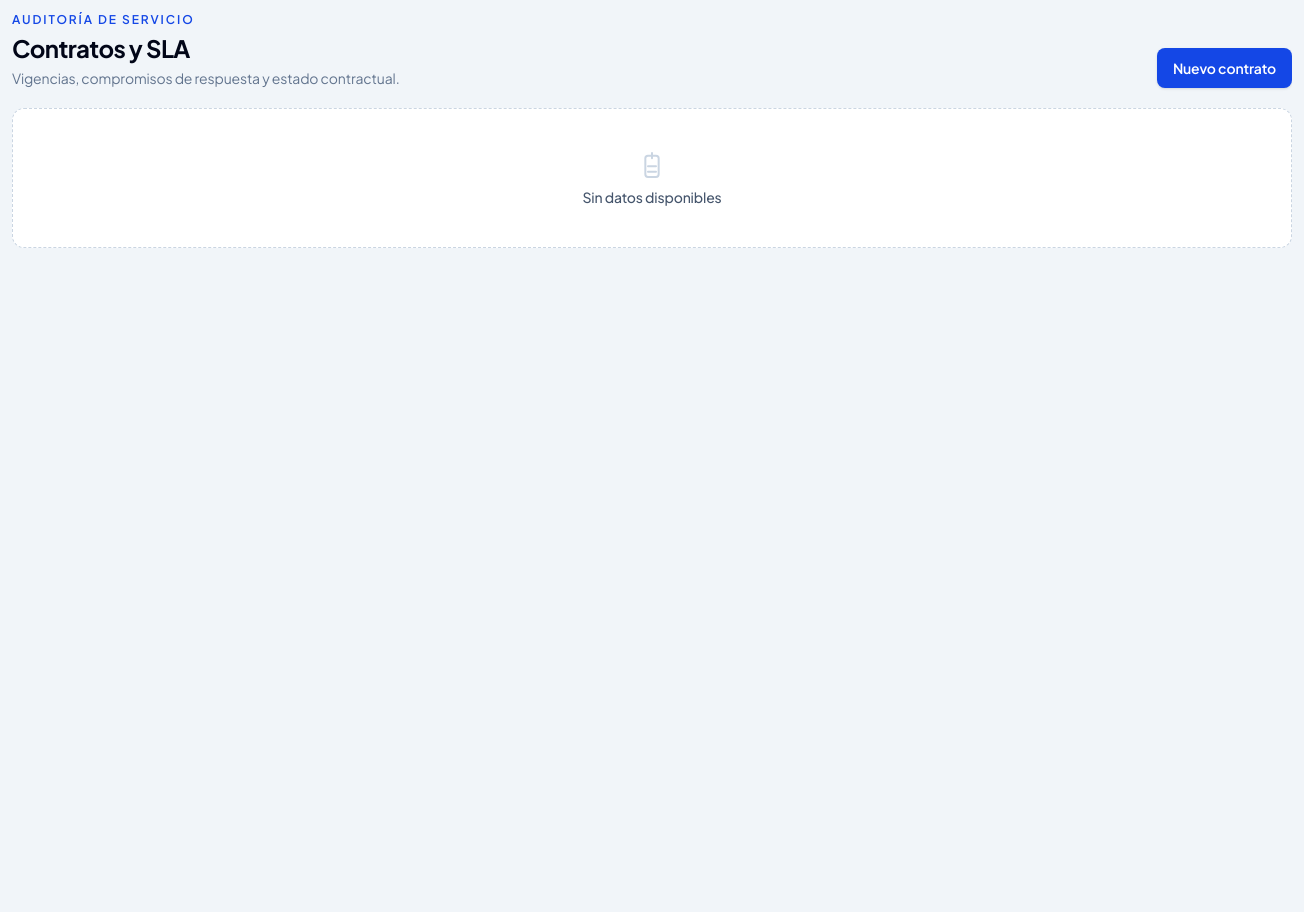
Test case: ContratosPage › fecha fin anterior al inicio se rechaza antes de enviar
Click the button "Nuevo contrato" at (1224, 68), box top-left (1157, 48), bottom-right (1292, 88)
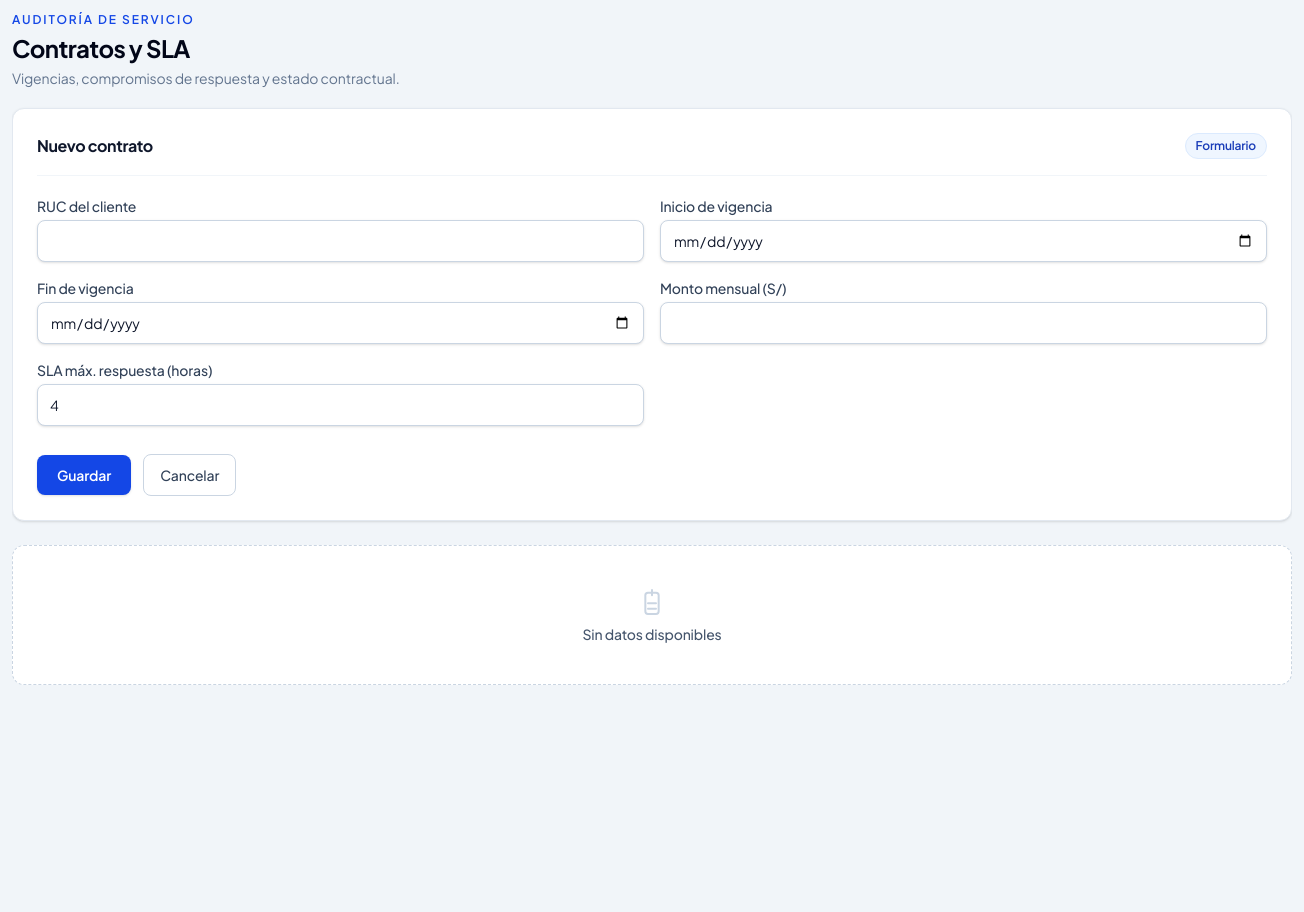
Type "20612493821" into the field labelled "RUC del cliente" at (340, 241), box top-left (37, 220), bottom-right (644, 262)
Type "2026-06-01" into the date field labelled "Inicio de vigencia" at (964, 241), box top-left (660, 220), bottom-right (1267, 262)
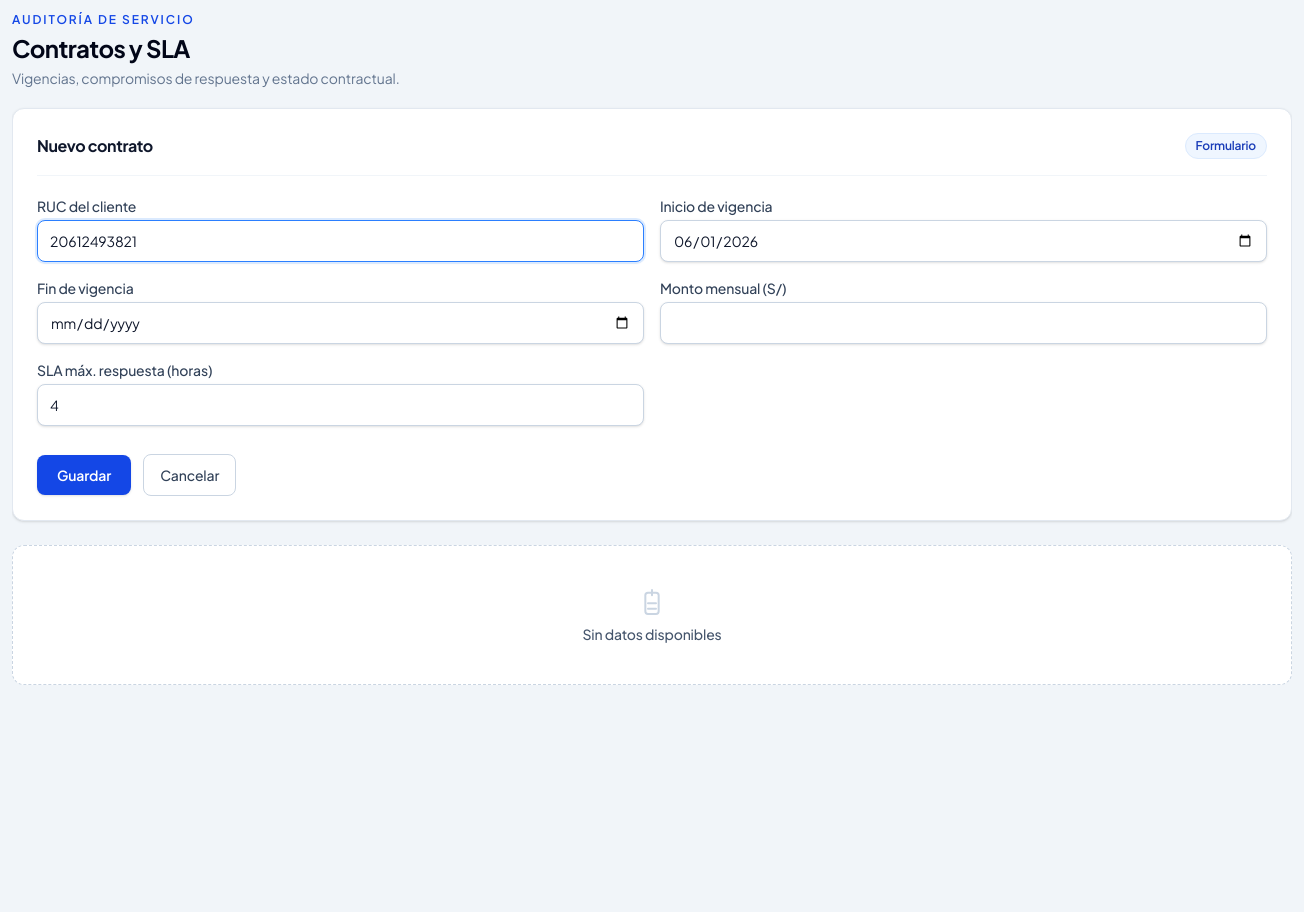
Type "2026-01-01" into the date field labelled "Fin de vigencia" at (340, 323), box top-left (37, 302), bottom-right (644, 344)
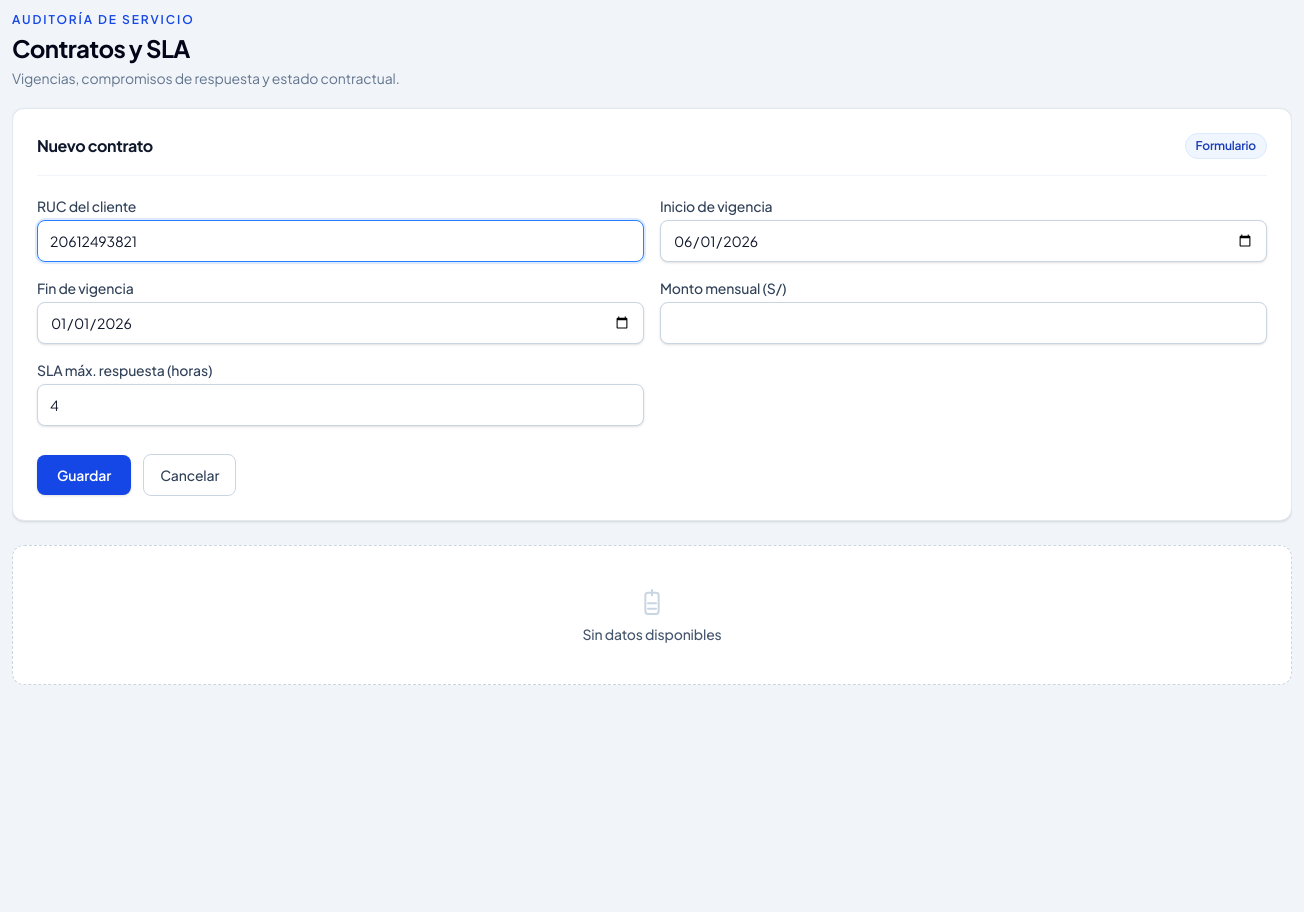
Type "1500" into the field labelled "Monto mensual (S/)" at (964, 323), box top-left (660, 302), bottom-right (1267, 344)
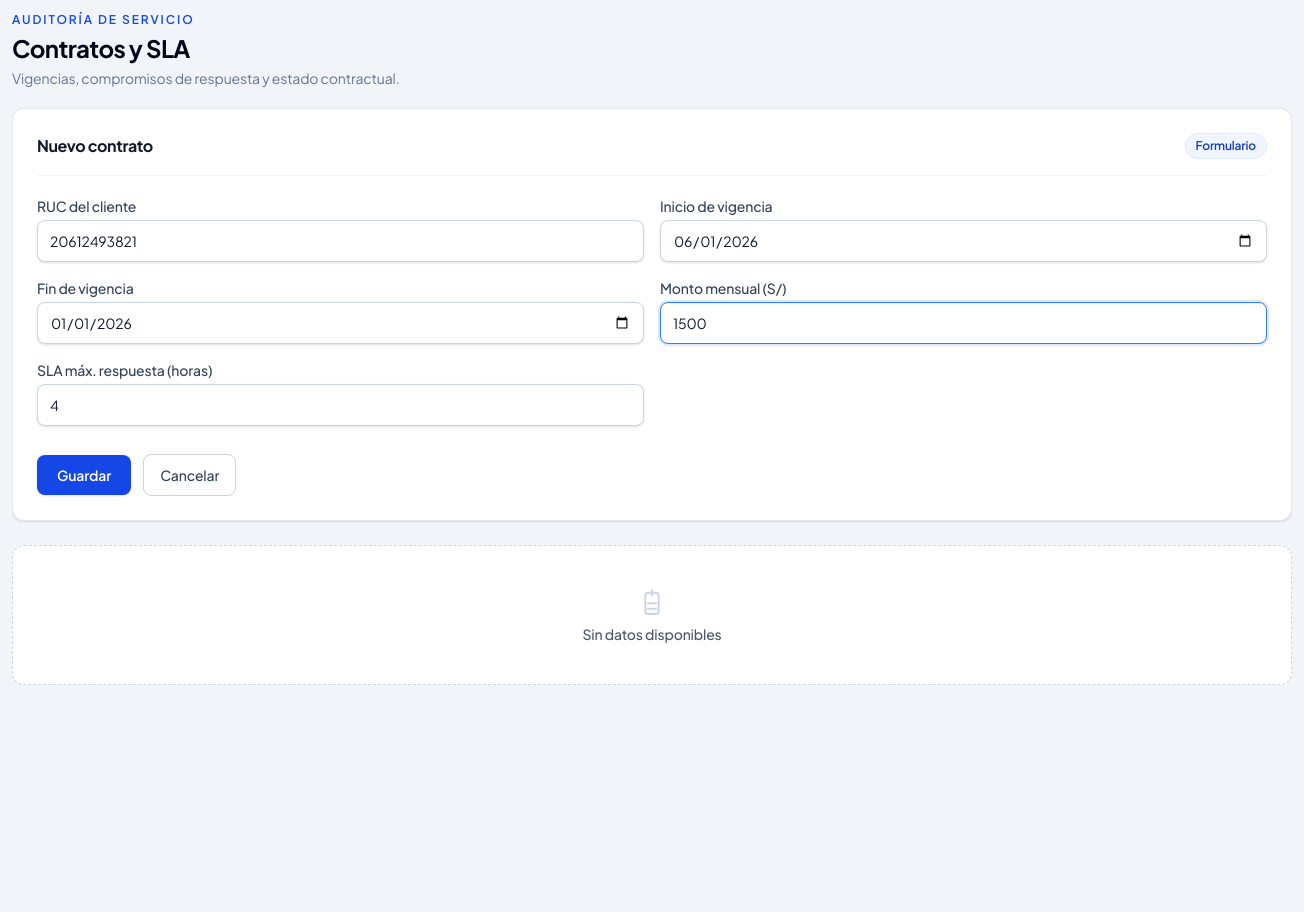
Replace the text in the field labelled "SLA máx. respuesta (horas)" with "6" at (340, 405), box top-left (37, 384), bottom-right (644, 426)
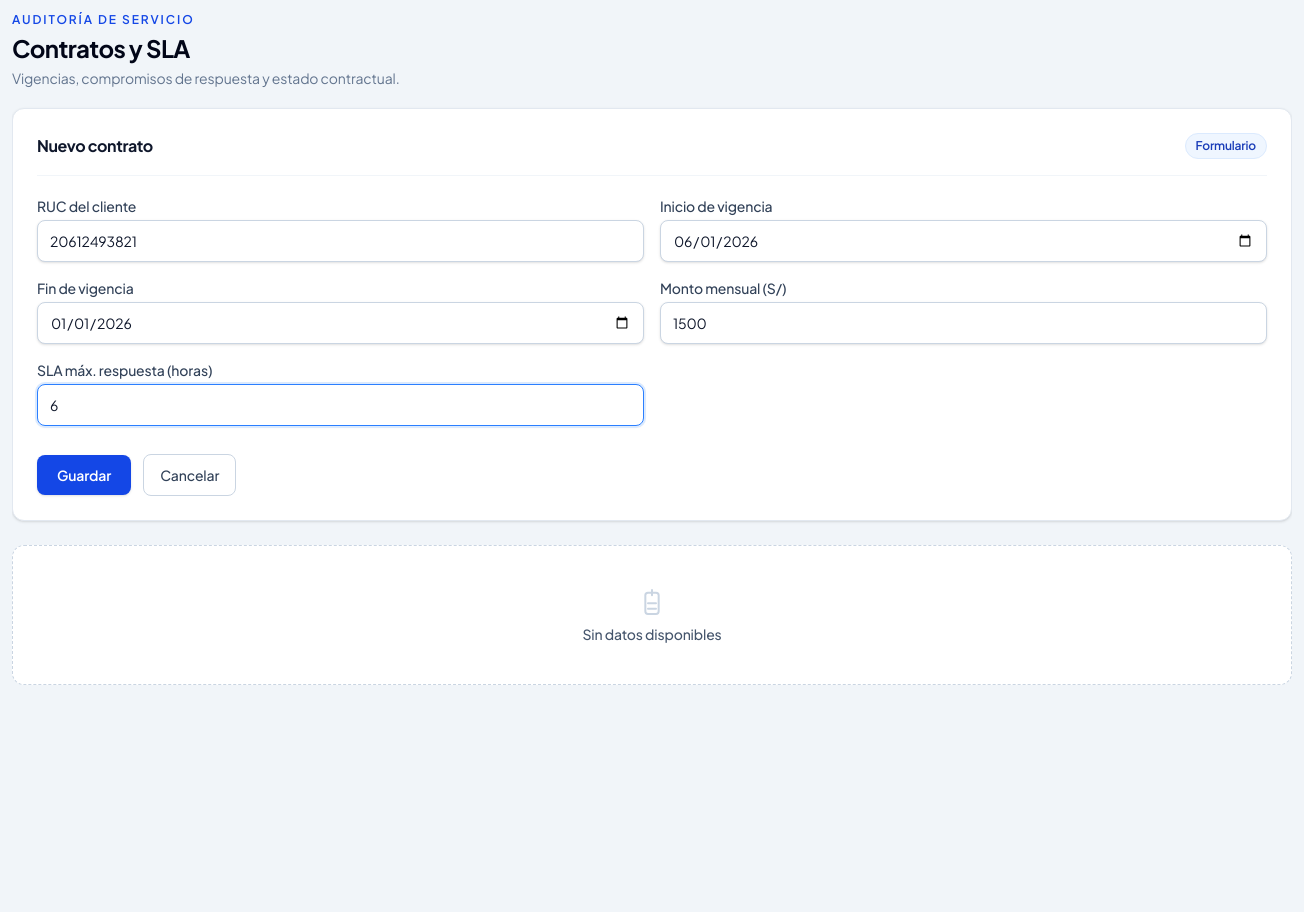
Click the button "Guardar" at (84, 475), box top-left (37, 455), bottom-right (131, 495)
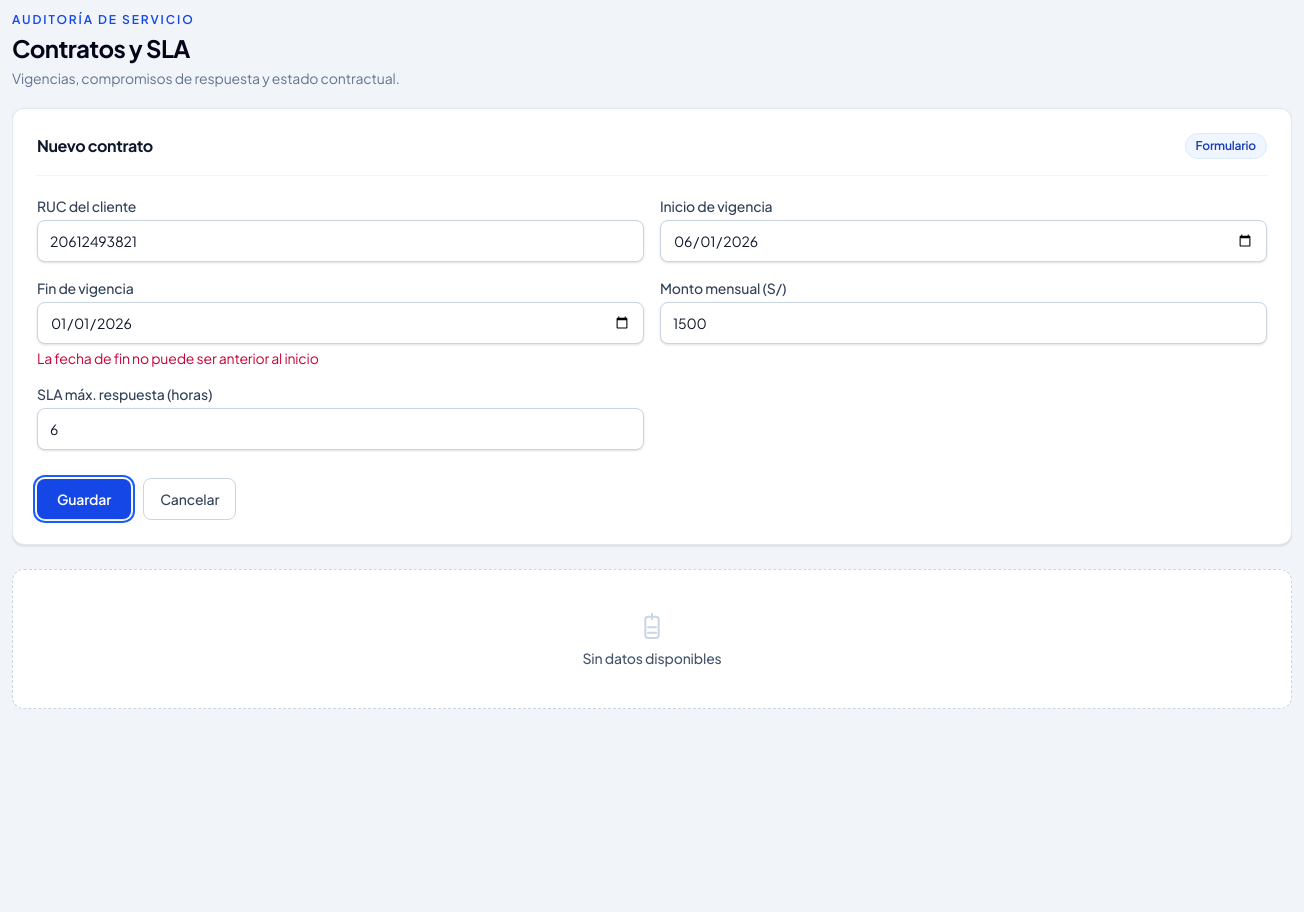
expect the text "La fecha de fin no puede ser anterior al inicio" is shown: met, box top-left (37, 349), bottom-right (319, 367)
